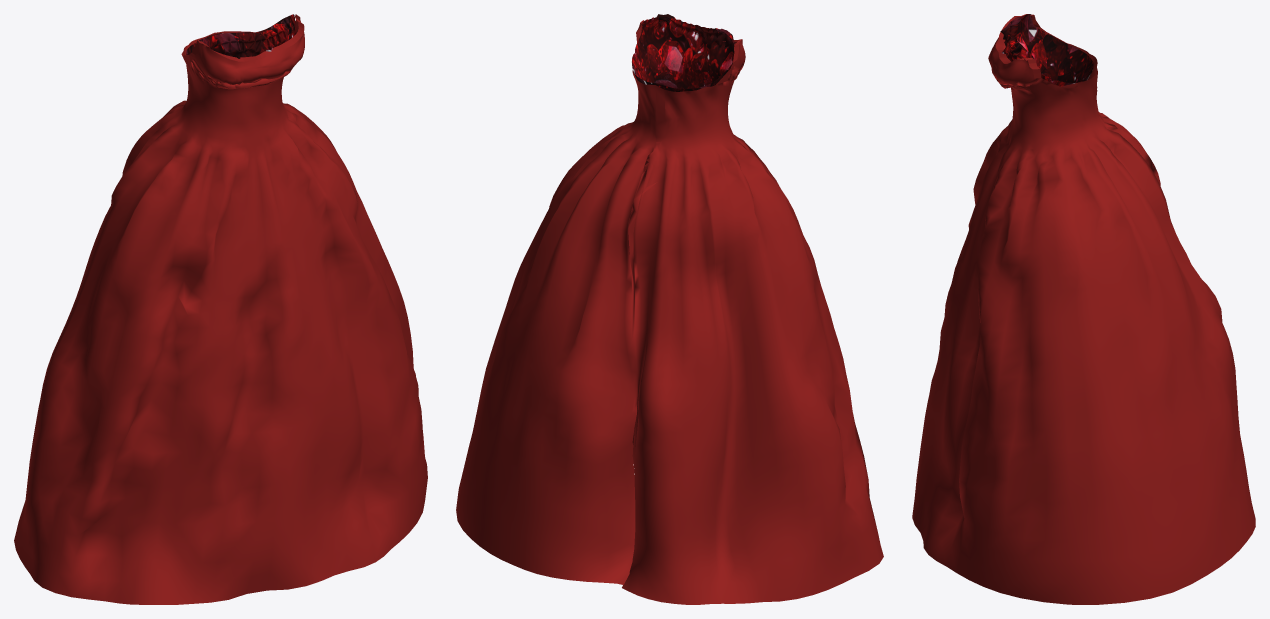
Rendered from elegant_rose.glb.
The picture shows the model from 3 angles, left to right: view 1: azimuth 30°, elevation 25°; view 2: azimuth 150°, elevation 25°; view 3: azimuth 270°, elevation 25°; orthographic projection. The views are drawn at different scales.
Parts seen in each view (by area): view 1: Gown_low, Stom_low; view 2: Gown_low, Stom_low; view 3: Gown_low, Stom_low.
Part boxes in pixels (x1=…): Gown_low: x1=14, y1=14, x2=427, y2=604; Stom_low: x1=186, y1=14, x2=296, y2=58; Gown_low: x1=456, y1=17, x2=883, y2=604; Stom_low: x1=632, y1=14, x2=734, y2=91; Gown_low: x1=912, y1=14, x2=1255, y2=604; Stom_low: x1=1000, y1=14, x2=1093, y2=86.
Size of the model in its own units: 1.1 by 1.38 by 0.8668.
Materials: 2 (1 with a texture image).
